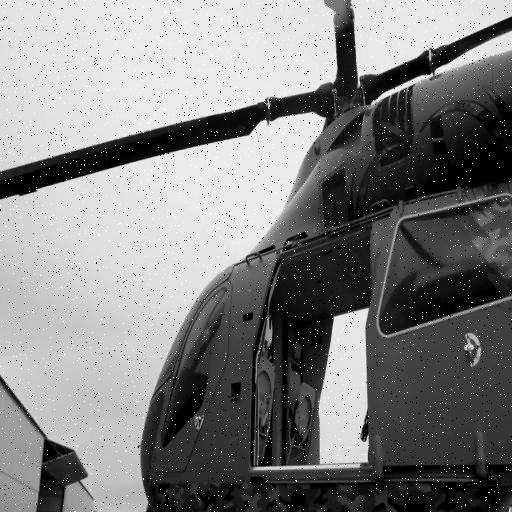helicopter: (78, 27, 512, 512)
